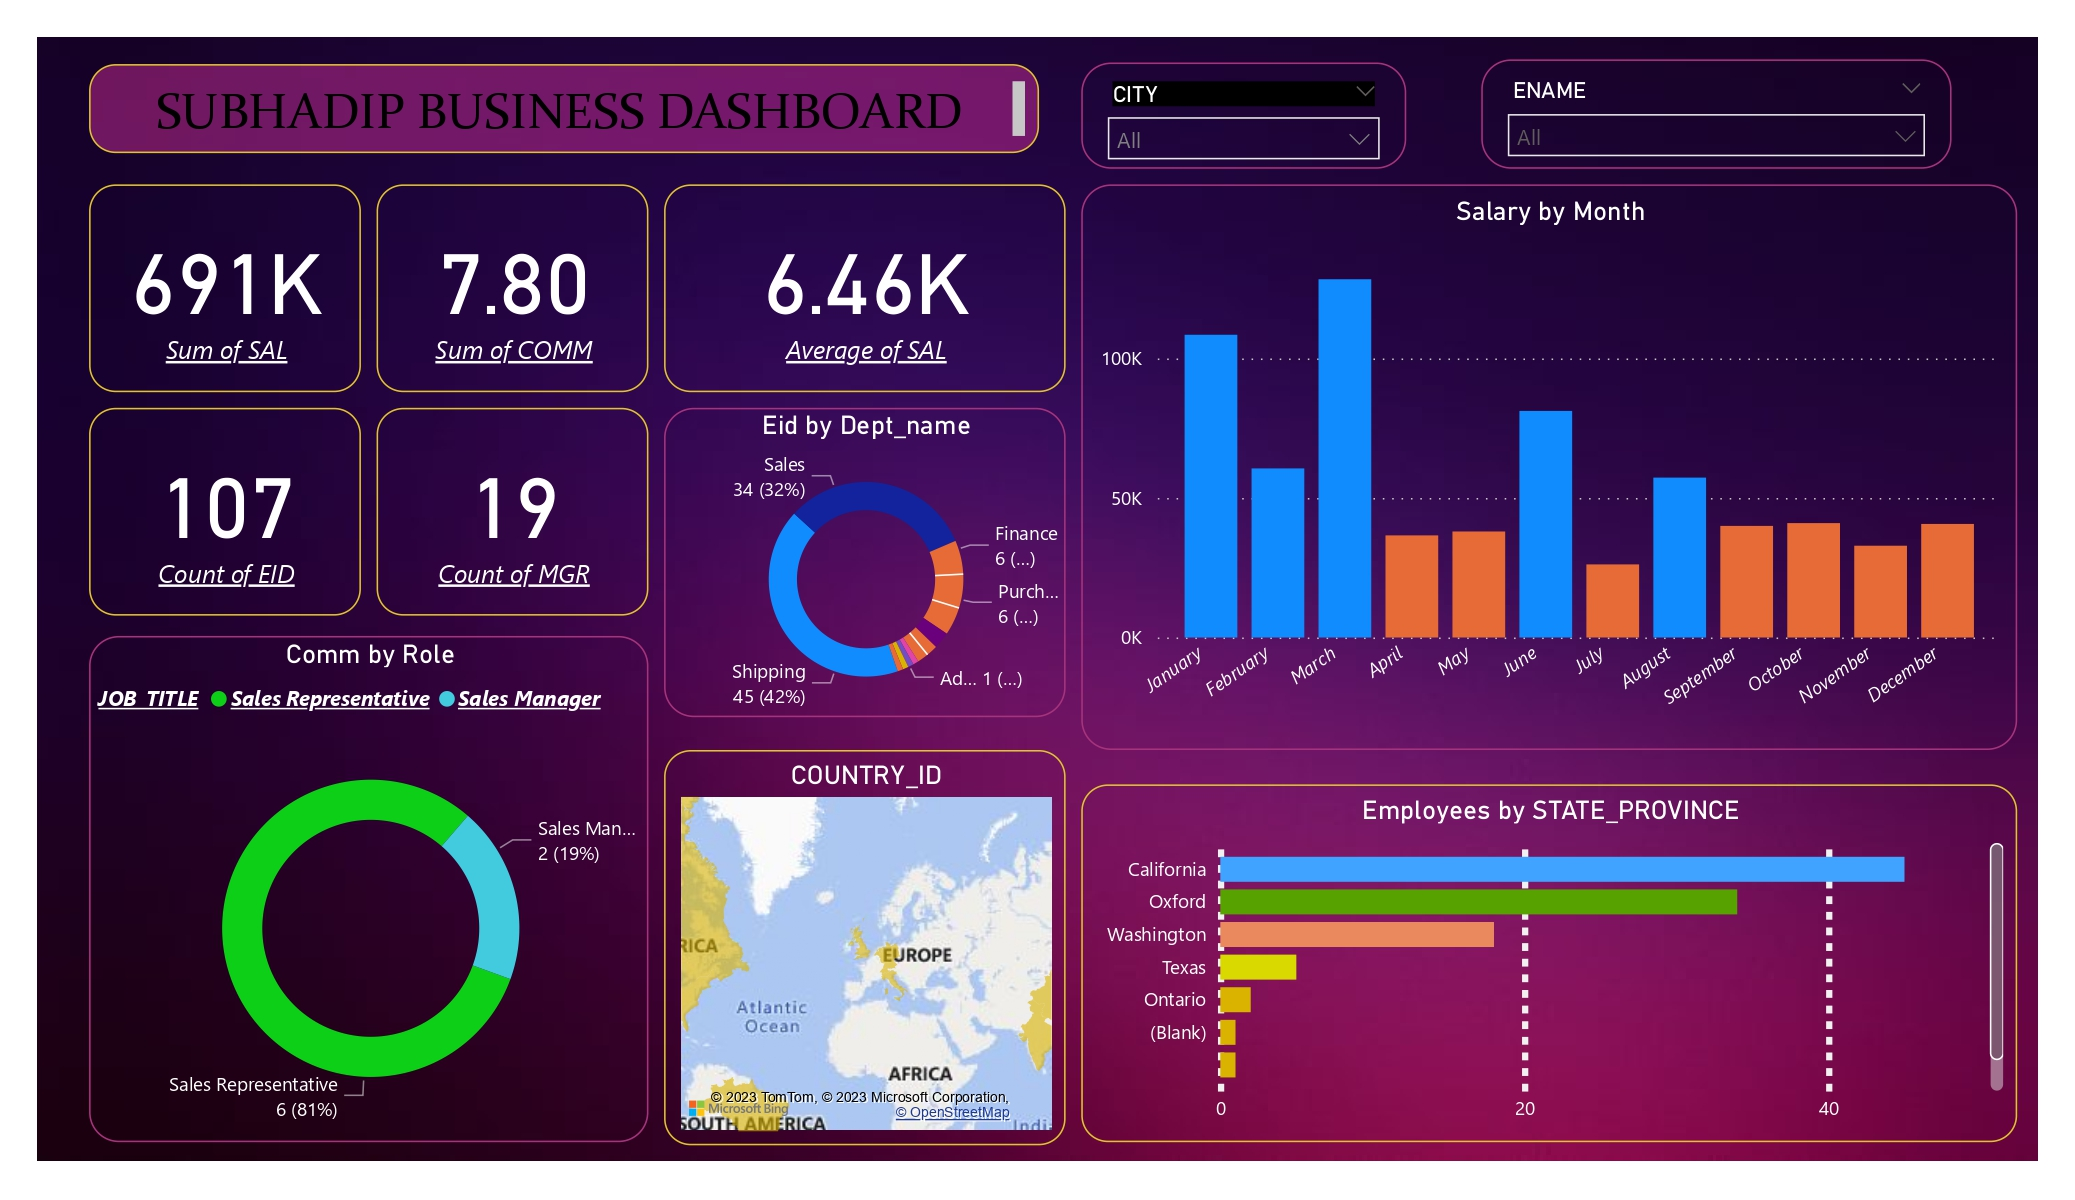

Layout of this report page (visuals, bound fields, positions):
{"tool":"powerbi","page":{"name":"Page 1","canvas":[1280,720],"ordinal":0},"visuals":[{"type":"columnChart","title":"Salary by Month","fields":{"Category":["Emp.HIRE_DATE.Variation.Date Hierarchy.Month"],"Y":["Emp.SAL"]},"box":[667.6,93.5,599.5,362.8],"z":0},{"type":"barChart","title":"Employees by STATE_PROVINCE","fields":{"Category":["Loc.STATE_PROVINCE"],"Y":["Emp.ENAME"]},"box":[667.6,477.6,599.5,229.6],"z":1000},{"type":"donutChart","title":"Eid by Dept_name","fields":{"Category":["Dept.DNAME"],"Y":["Emp.EID"]},"box":[401.1,236.7,256.5,198.4],"z":2000},{"type":"donutChart","title":"Comm by Role","fields":{"Y":["Emp.COMM"],"Category":["Job.JOB_TITLE"]},"box":[32.6,382.7,358.6,324.6],"z":3000},{"type":"card","fields":{"Values":["Emp.SAL"]},"box":[32.6,93.5,174.3,133.2],"z":4000},{"type":"card","fields":{"Values":["Emp.COMM"]},"box":[216.9,93.5,174.3,133.2],"z":5000},{"type":"card","fields":{"Values":["Emp.SAL"]},"box":[401.1,93.5,256.5,133.2],"z":6000},{"type":"card","fields":{"Values":["Emp.EID"]},"box":[32.6,236.7,174.3,133.2],"z":7000},{"type":"card","fields":{"Values":["Emp.MGR"]},"box":[216.9,236.7,174.3,133.2],"z":8000},{"type":"textbox","box":[32.6,17,608,56.7],"z":9000},{"type":"filledMap","fields":{"Category":["Loc.COUNTRY_ID"]},"box":[401.1,456.4,256.5,252.3],"z":10000},{"type":"slicer","fields":{"Values":["Loc.CITY"]},"box":[667.6,15.6,208.3,68],"z":11000},{"type":"slicer","fields":{"Values":["Emp.ENAME"]},"box":[924.1,14.2,300.5,69.4],"z":12000}]}

Visuals, with their boxes on the page's 1280x720 design canvas (x1, y1, x2, y2). These are canvas units, not pixel positions in the 2075x1200 screenshot, which may show the page scaled, cropped or inside an application window:
"Salary by Month" columnChart: [left=668, top=94, right=1267, bottom=456]
"Employees by STATE_PROVINCE" barChart: [left=668, top=478, right=1267, bottom=707]
"Eid by Dept_name" donutChart: [left=401, top=237, right=658, bottom=435]
"Comm by Role" donutChart: [left=33, top=383, right=391, bottom=707]
card - Emp.SAL: [left=33, top=94, right=207, bottom=227]
card - Emp.COMM: [left=217, top=94, right=391, bottom=227]
card - Emp.SAL: [left=401, top=94, right=658, bottom=227]
card - Emp.EID: [left=33, top=237, right=207, bottom=370]
card - Emp.MGR: [left=217, top=237, right=391, bottom=370]
textbox: [left=33, top=17, right=641, bottom=74]
filledMap - Loc.COUNTRY_ID: [left=401, top=456, right=658, bottom=709]
slicer - Loc.CITY: [left=668, top=16, right=876, bottom=84]
slicer - Emp.ENAME: [left=924, top=14, right=1225, bottom=84]
